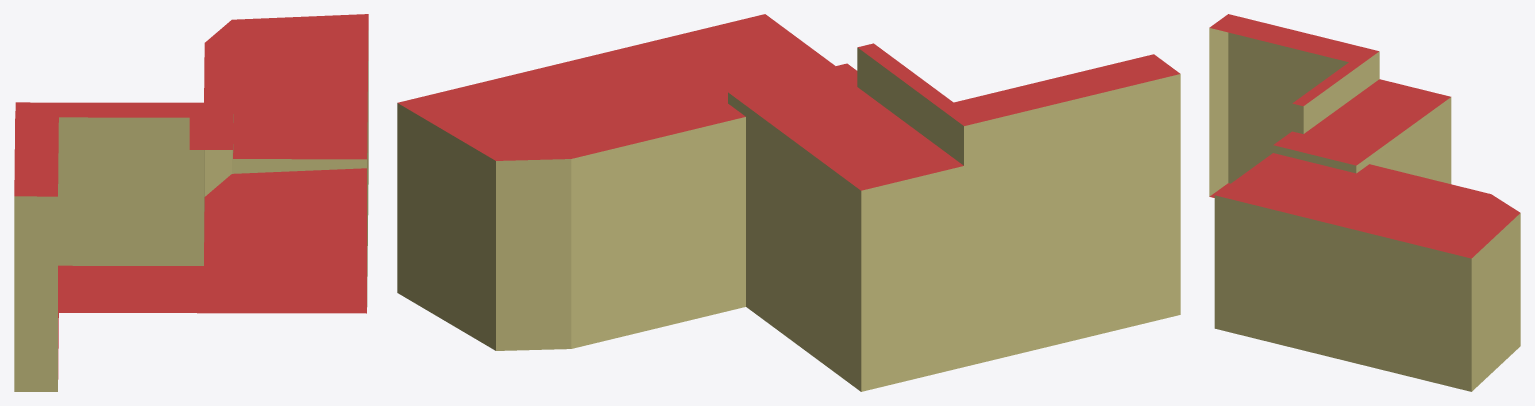
3 renders of one model, left to right at view 1: azimuth 30°, elevation 25°; view 2: azimuth 150°, elevation 25°; view 3: azimuth 270°, elevation 25°, orthographic. The views are drawn at different scales.
Size of the model in its own units: 18.74 by 11.8 by 7.07.
